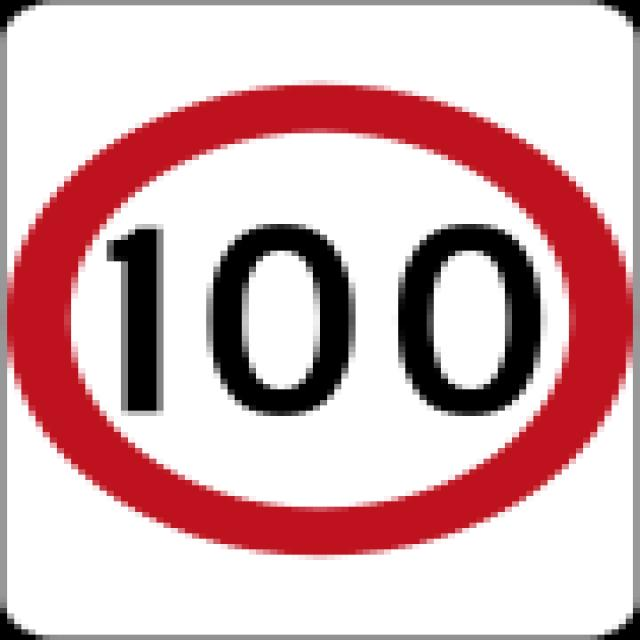Speed Limit -100-: (79, 206, 584, 442)
